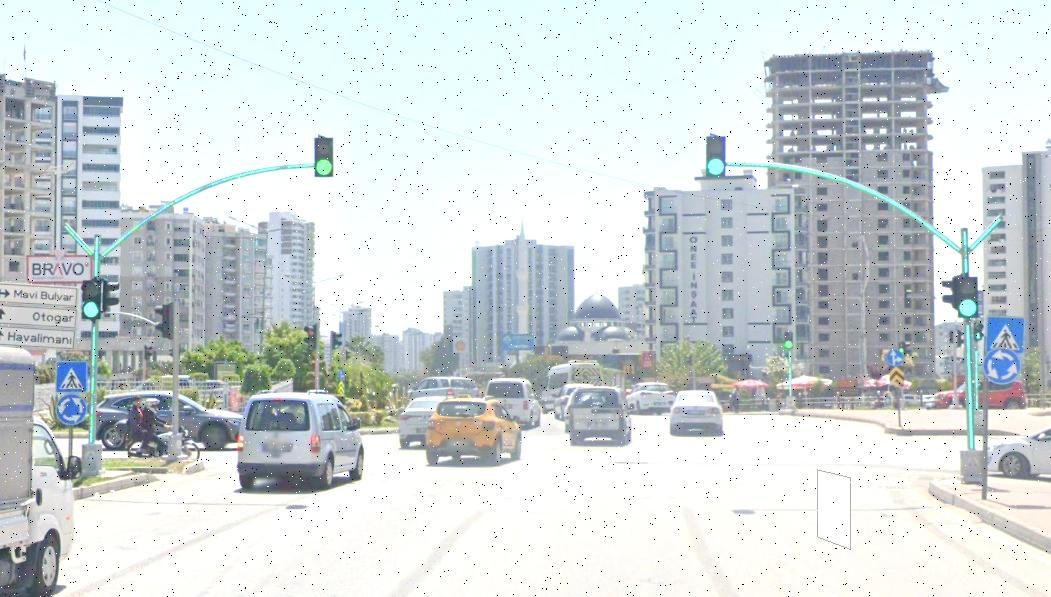crossroads: (58, 396, 86, 424)
greenlight: (950, 274, 980, 316), (311, 137, 334, 179), (83, 275, 103, 322), (707, 132, 724, 177), (330, 332, 341, 352), (784, 329, 793, 350), (896, 340, 906, 356)
redlight: (303, 324, 317, 352)
